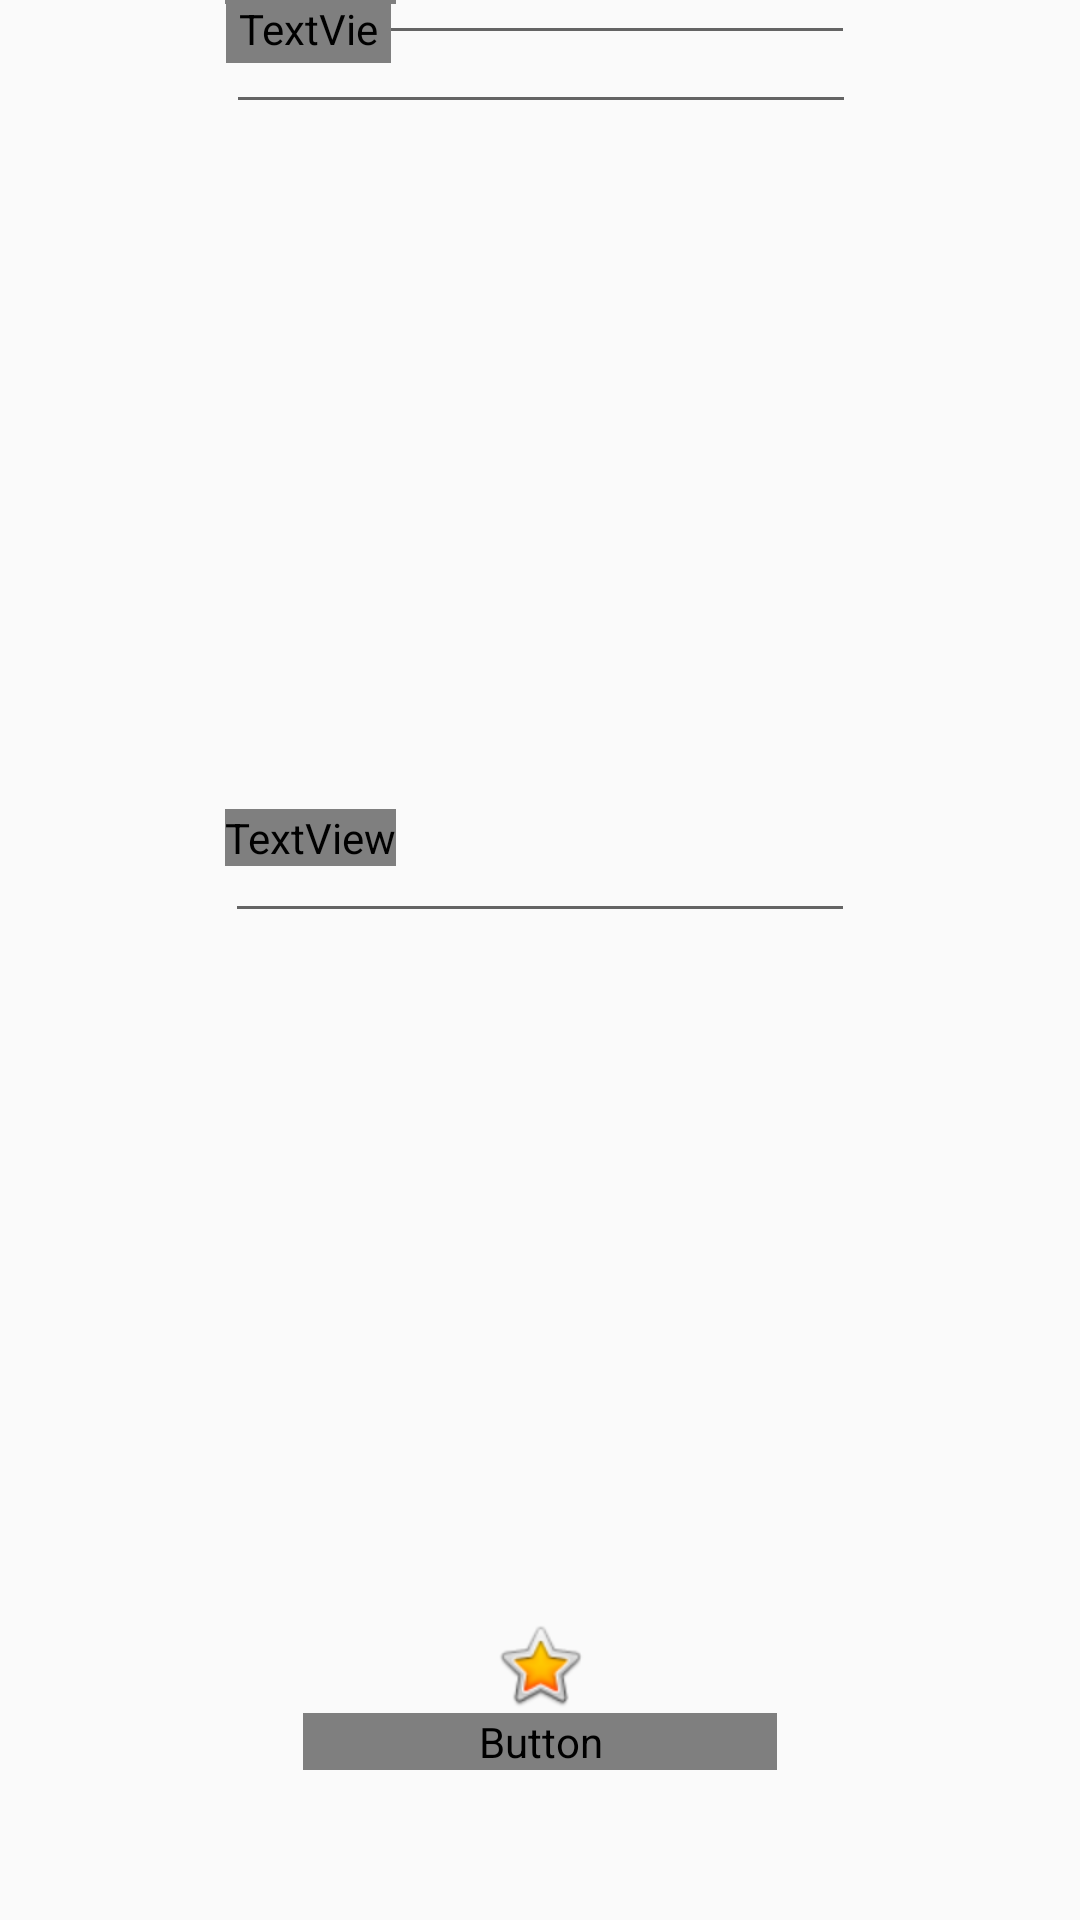

Icons on this 1080 × 1920 Android screen, each with the point to tap as [x,y]:
star on: [541,1666]
